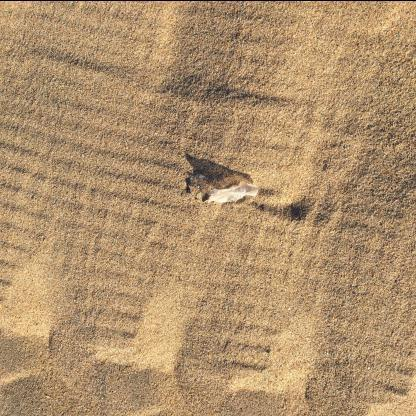diger: (188, 173, 260, 204)
